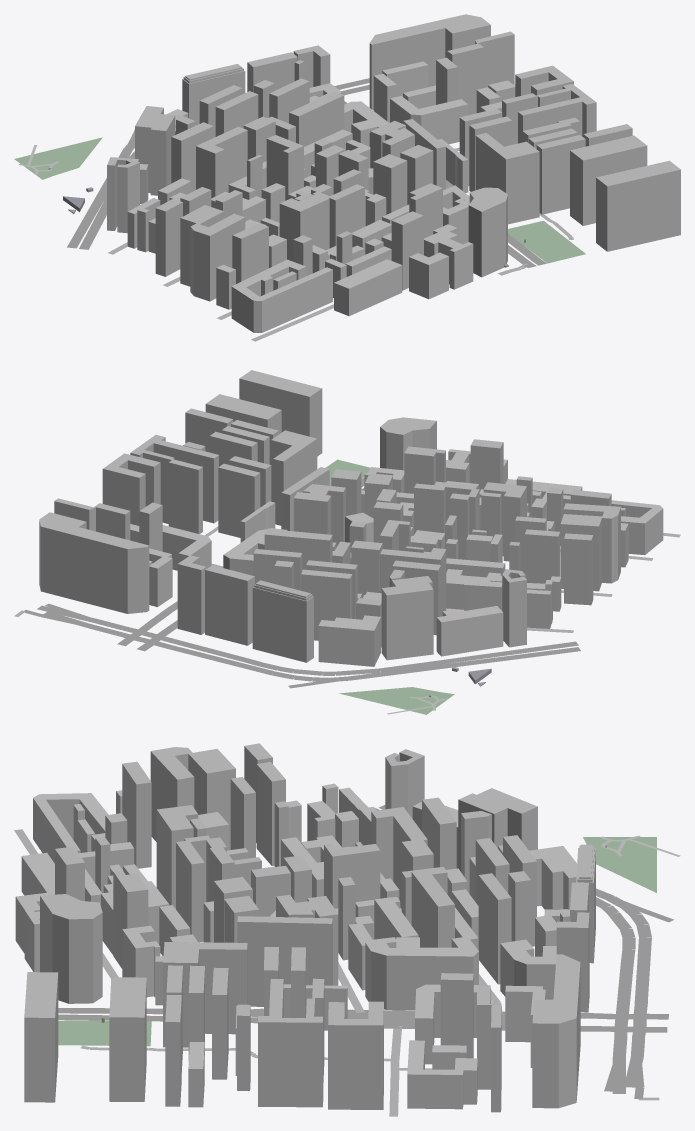
3 renders of one model, top to bottom at view 1: azimuth 30°, elevation 25°; view 2: azimuth 150°, elevation 25°; view 3: azimuth 270°, elevation 25°, orthographic. The views are drawn at different scales.
Bounding box in the file's own units: 593 × 89.5 × 536.
